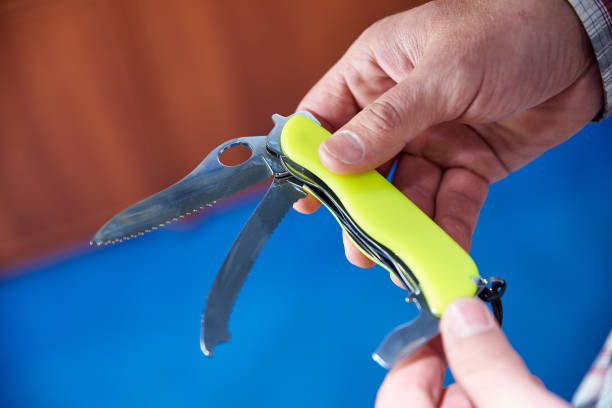knife: (84, 131, 293, 248), (198, 175, 311, 361), (371, 307, 441, 370)
